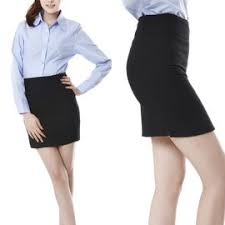F_tailored skirt: (118, 10, 221, 141), (21, 71, 85, 153)
